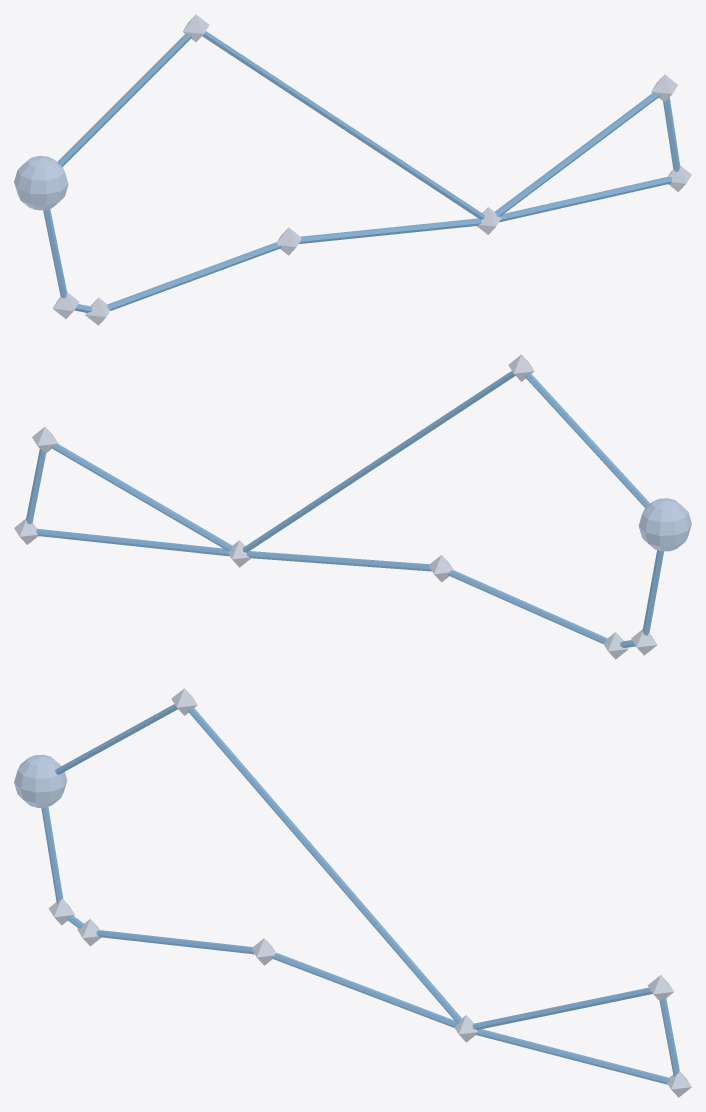
The model's file is constellation-psa.glb.
3 views of the same model, one above another, from view 1: azimuth 30°, elevation 25°; view 2: azimuth 150°, elevation 25°; view 3: azimuth 330°, elevation 25° (orthographic). The views are drawn at different scales.
Size of the model in its own units: 1.71 by 0.7343 by 0.1425.
